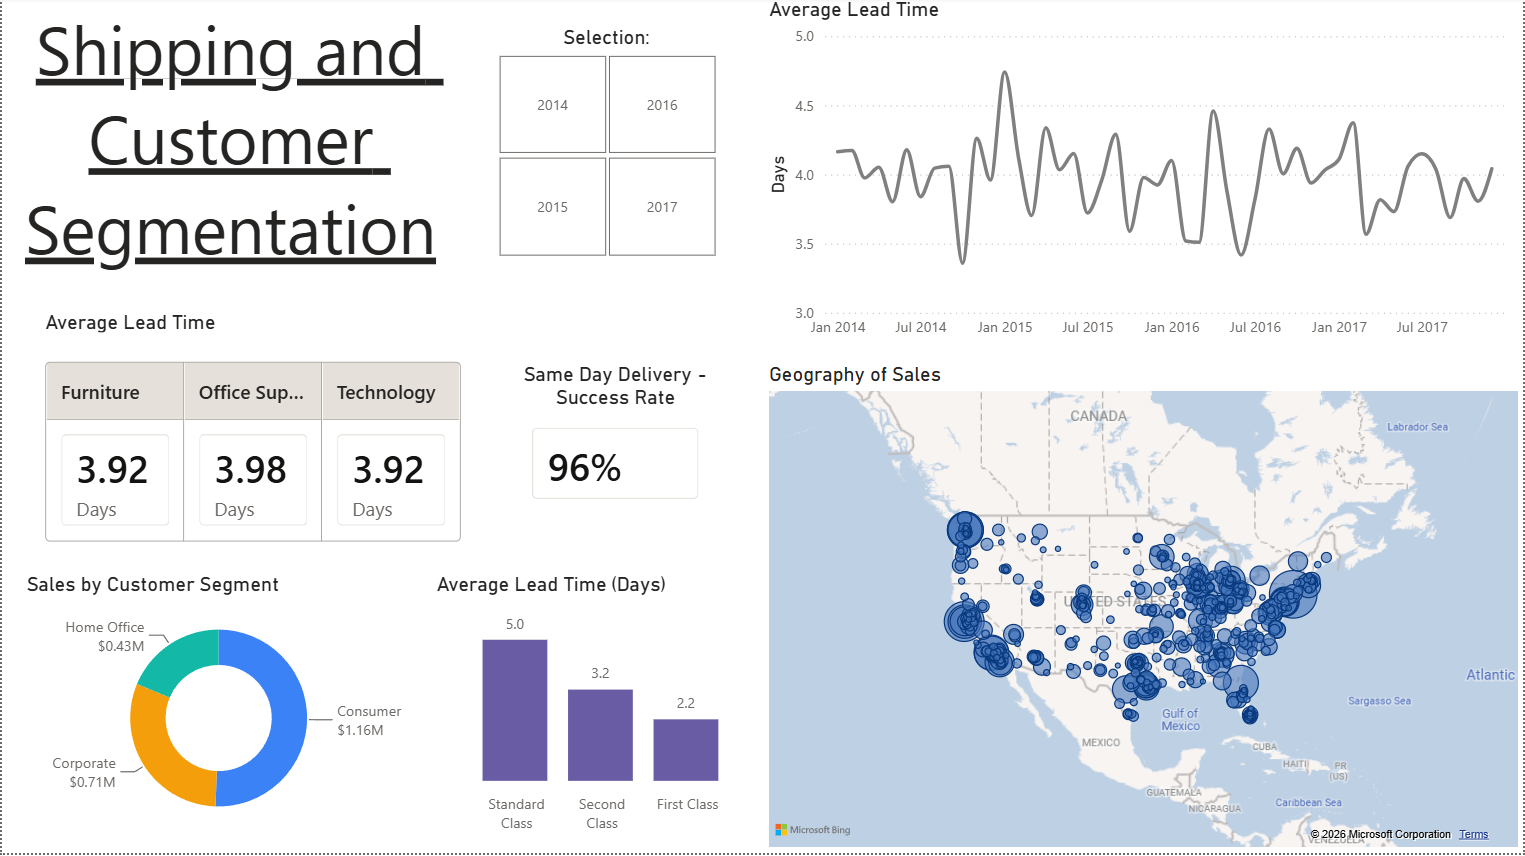

Layout of this report page (visuals, bound fields, positions):
{"tool":"powerbi","page":{"name":"Shipping and Customer Segmentation","canvas":[1280,720],"ordinal":2},"visuals":[{"type":"map","title":"Geography of Sales","fields":{"Category":["dAddress.FullAddress"],"Size":["_Measures.Total Sales"]},"box":[640,306.7,640,413.3],"z":0},{"type":"donutChart","title":"Sales by Customer Segment","fields":{"Category":["dCustomer.Segment"],"Y":["_Measures.Total Sales"]},"box":[15.6,483.3,333.3,226.7],"z":1000},{"type":"cardVisual","title":"Average Lead Time","fields":{"Data":["_Measures.Average Time to Ship"],"Rows":["dProduct.Category"]},"box":[31.1,263.3,361.1,220],"z":2000},{"type":"clusteredColumnChart","title":"Average Lead Time (Days)","fields":{"Y":["_Measures.Average Time to Ship"],"Category":["fOrders.Ship_Mode"]},"box":[361.1,483.3,278.9,226.7],"z":3000},{"type":"lineChart","title":"Average Lead Time","fields":{"Y":["_Measures.Average Time to Ship"],"Category":["dOrder_Date.Date.Variation.Date Hierarchy.Year","dOrder_Date.Date.Variation.Date Hierarchy.Quarter","dOrder_Date.Date.Variation.Date Hierarchy.Month"]},"box":[640,0,640,295.6],"z":4000},{"type":"slicer","title":"Selection:","fields":{"Values":["dOrder_Date.Year_Number"]},"box":[392.2,31.5,232.4,200.8],"z":5000},{"type":"cardVisual","title":"Same Day Delivery - Success Rate","fields":{"Data":["_Measures.Measure"]},"box":[428.9,306.7,174.4,132.2],"z":6000},{"type":"textbox","box":[0,0,384.4,263.3],"z":7000}]}

Visuals, with their boxes in screenshot pixels (x1, y1, x2, y2), scaled from the page's 1280x720 canvas onto the 1525x856 screenshot:
"Geography of Sales" map: [762,365,1524,855]
"Sales by Customer Segment" donutChart: [19,575,416,844]
"Average Lead Time" cardVisual: [37,313,467,575]
"Average Lead Time (Days)" clusteredColumnChart: [430,575,762,844]
"Average Lead Time" lineChart: [762,0,1524,351]
"Selection:" slicer: [467,37,744,276]
"Same Day Delivery - Success Rate" cardVisual: [511,365,719,522]
textbox: [0,0,458,313]
